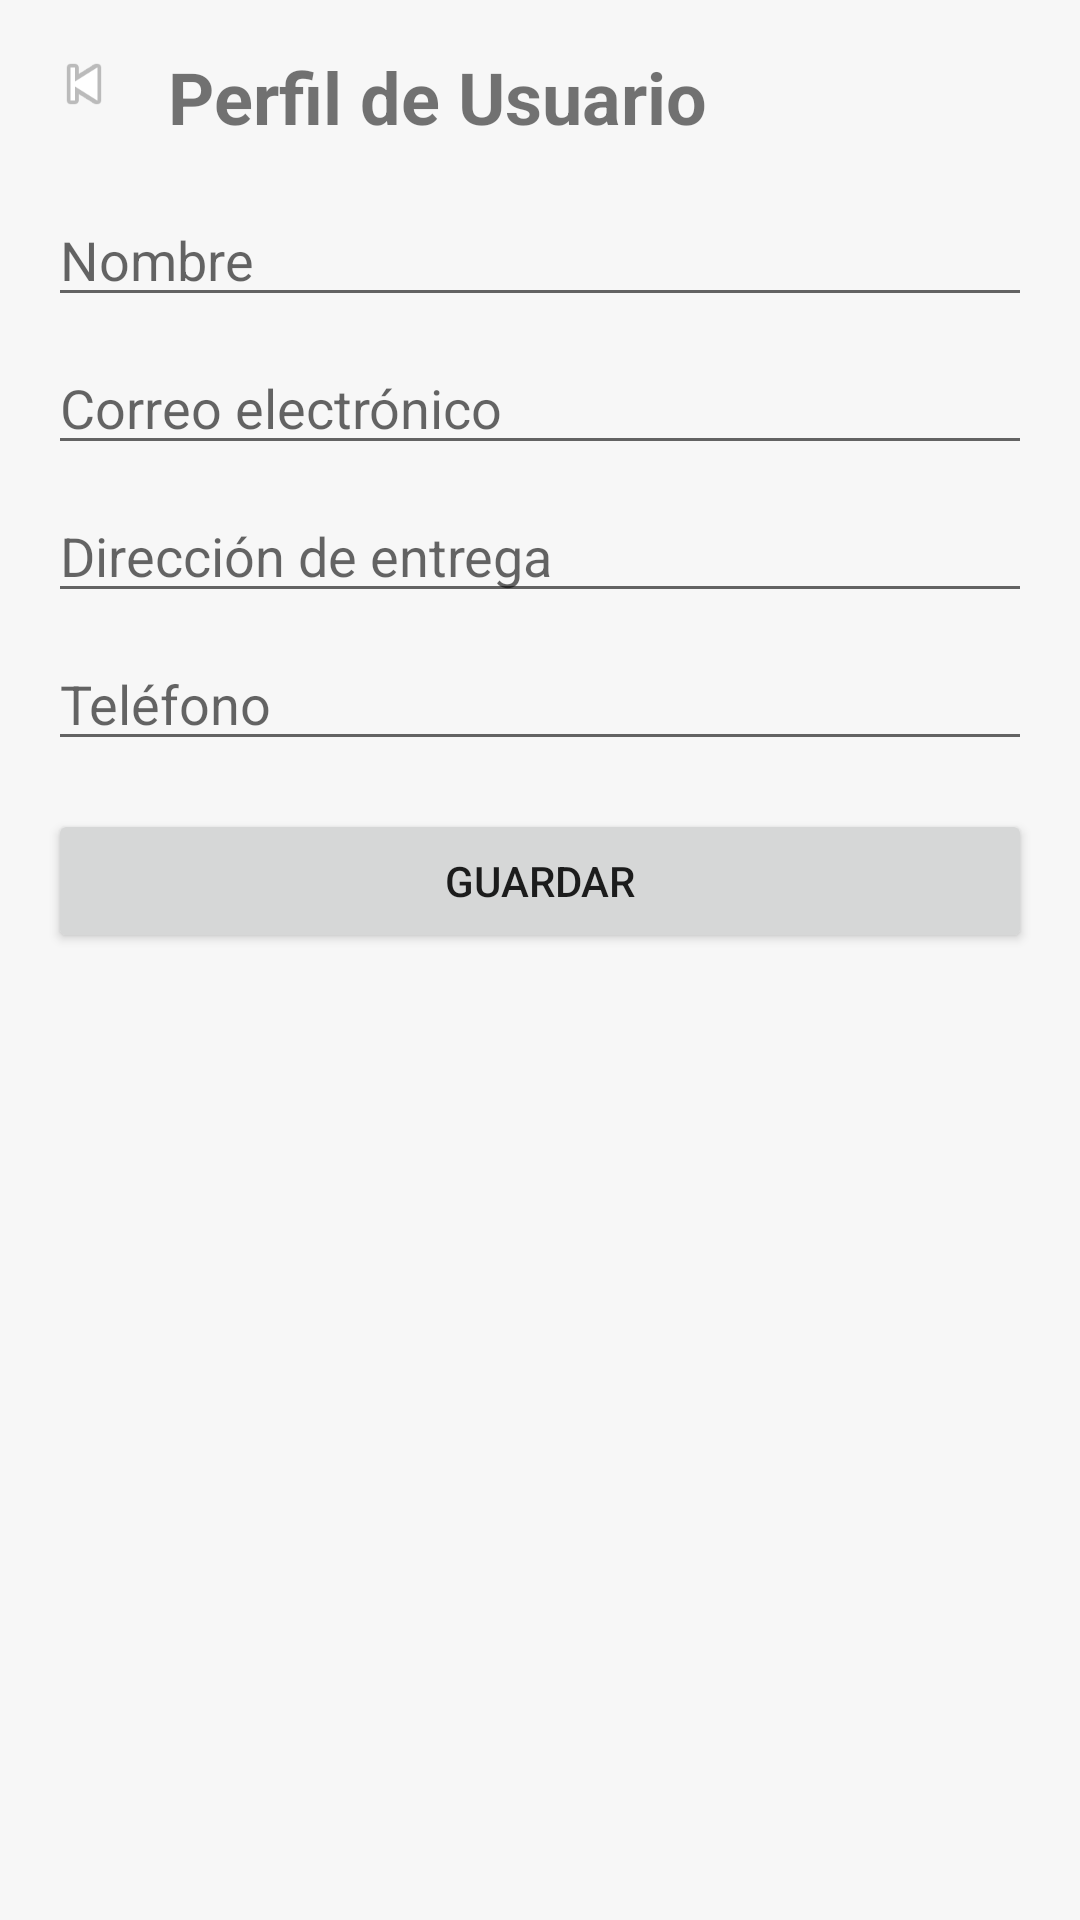

Locate icon controls on the screen. Image size 1080px x 1920px, boxes as (x1,y1,x2,y2).
Volver: (67,64,101,104)
